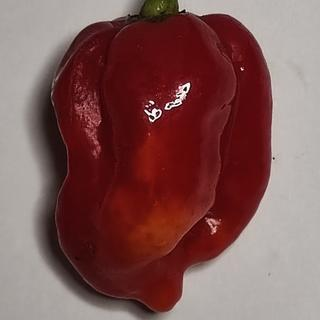Grade-A: (42, 9, 277, 317)
